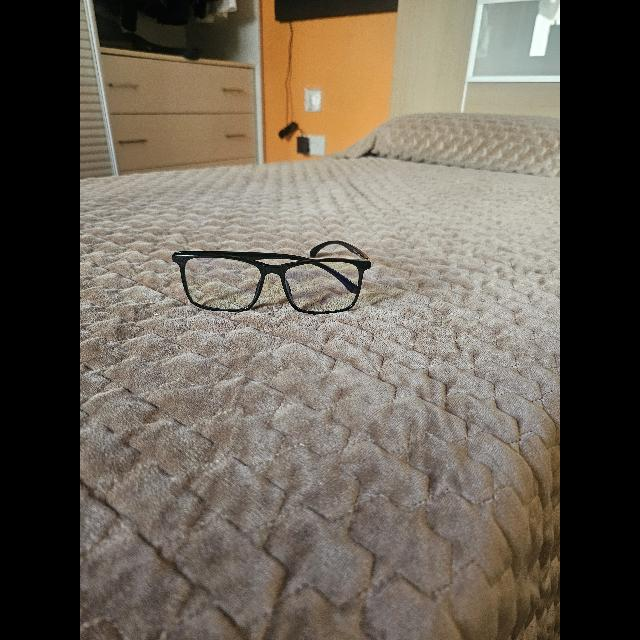glasses: (172, 240, 372, 314)
